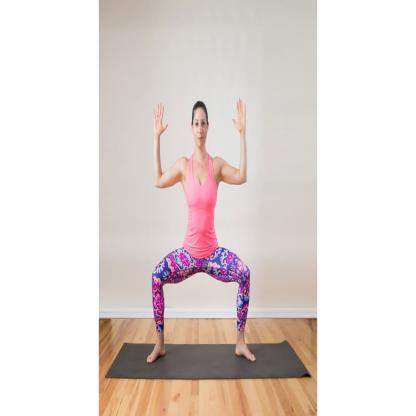godness: (140, 89, 260, 370)
